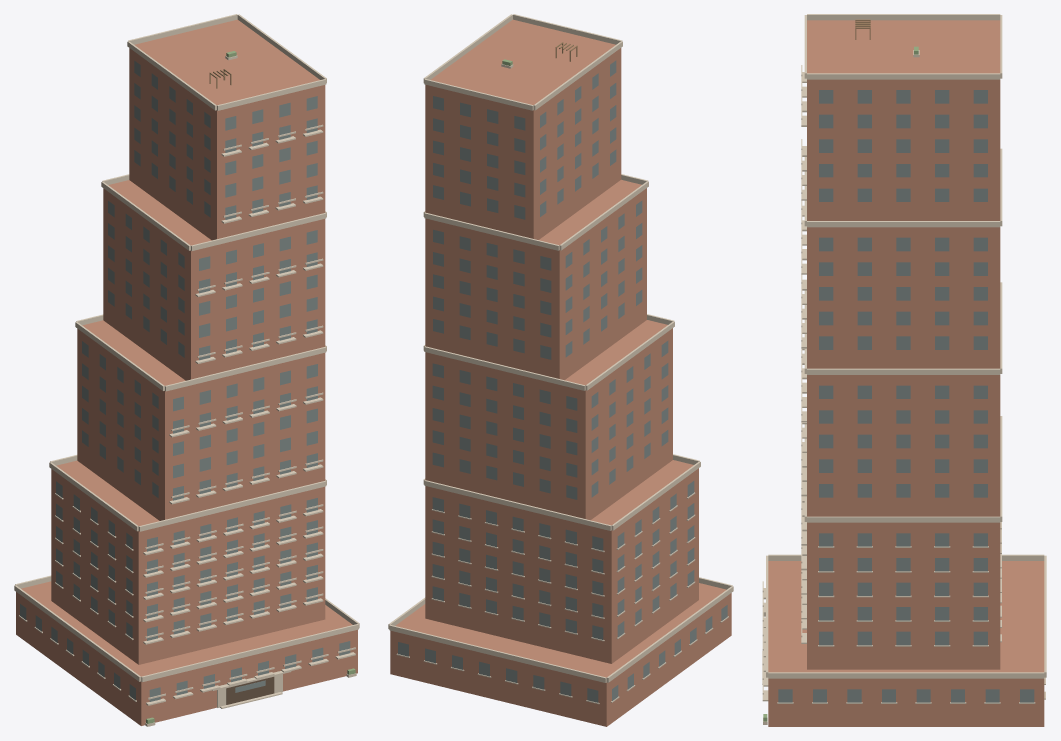
The model's file is residential_4x4_tower_steps.glb.
3 renders of one model, left to right at view 1: azimuth 30°, elevation 25°; view 2: azimuth 150°, elevation 25°; view 3: azimuth 270°, elevation 25°, orthographic. The views are drawn at different scales.
Visible parts, largest first — view 1: residential_4x4_tower_steps_0; view 2: residential_4x4_tower_steps_0; view 3: residential_4x4_tower_steps_0.
Boxes of the visible parts, x1,y1,x2,y2 form: residential_4x4_tower_steps_0: (14, 14, 359, 726); residential_4x4_tower_steps_0: (388, 14, 733, 726); residential_4x4_tower_steps_0: (762, 14, 1046, 726).
Bounding box in the file's own units: 31 × 79.5 × 31.4.
